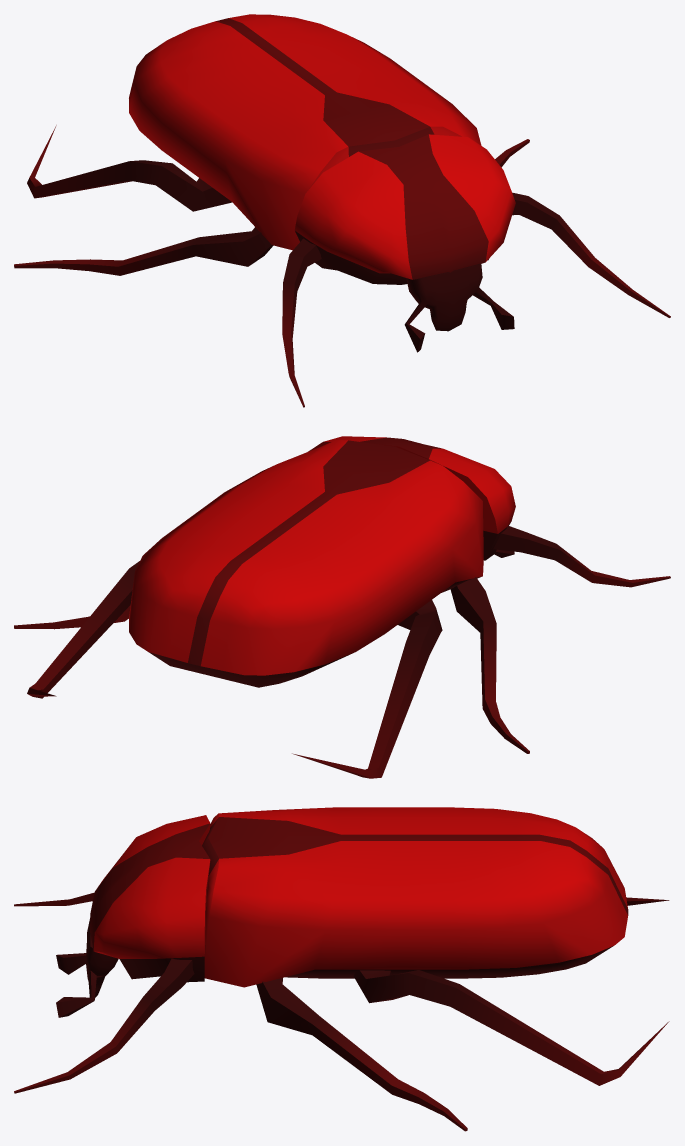
The model's file is Insects_CowboyBeetle.fbx.
The picture shows the model from 3 angles, top to bottom: view 1: azimuth 30°, elevation 25°; view 2: azimuth 150°, elevation 25°; view 3: azimuth 270°, elevation 25°; orthographic projection. The views are drawn at different scales.
Parts seen in each view (by area): view 1: base; view 2: base; view 3: base.
Part boxes in pixels (<box>): base: <box>14,14,670,407</box>; base: <box>14,436,670,778</box>; base: <box>14,807,669,1131</box>.
Size of the model in its own units: 189 by 54.14 by 199.
